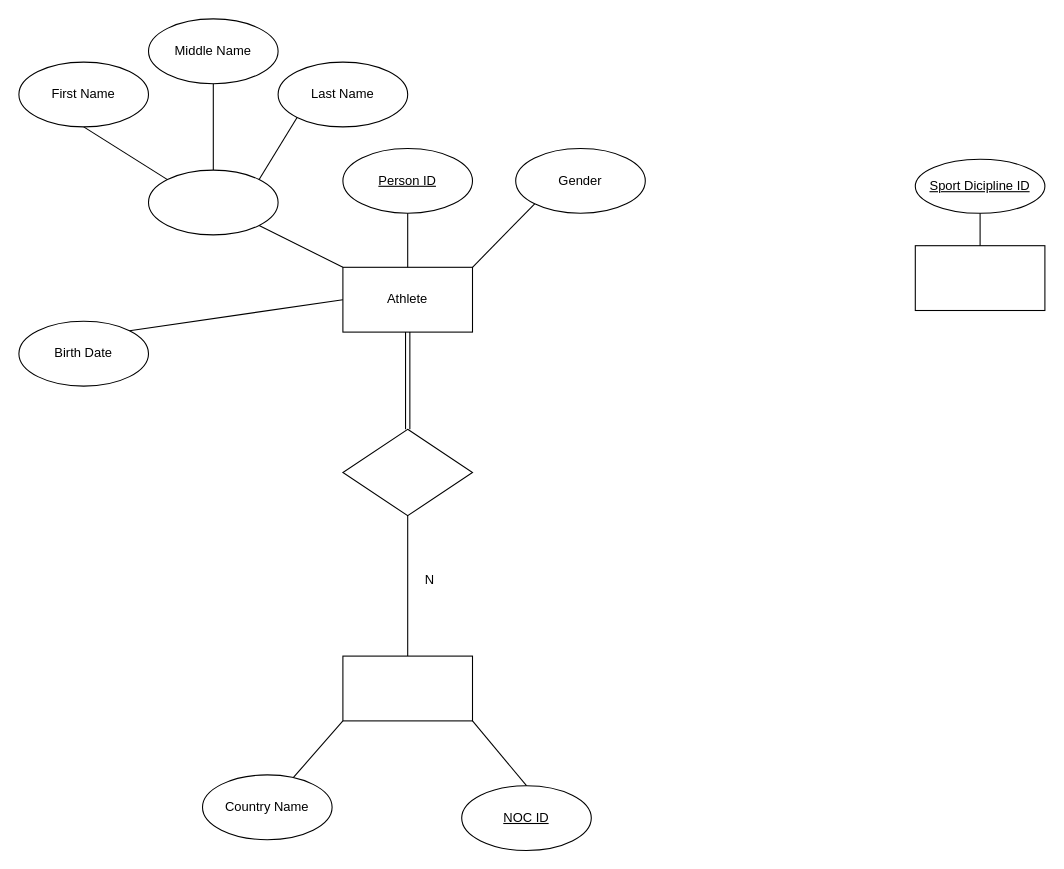
This 1064x869 diagram has some shape labels left out. The shapes that lost their labels are listed below. From the top down, each one's centre as x and y in pixels, then its label:
At pixel 212 202: "Name".
At pixel 979 277: "Sport Dicipline".
At pixel 407 472: "Represents".
At pixel 407 688: "NOC Countries".
